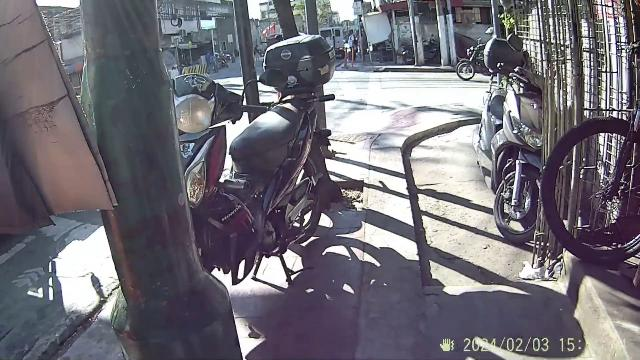motorcycle: (163, 29, 325, 298), (474, 35, 546, 242)
